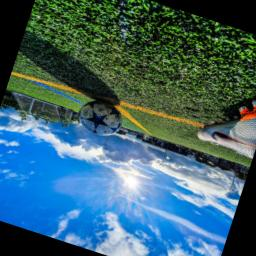football: (74, 96, 128, 142)
